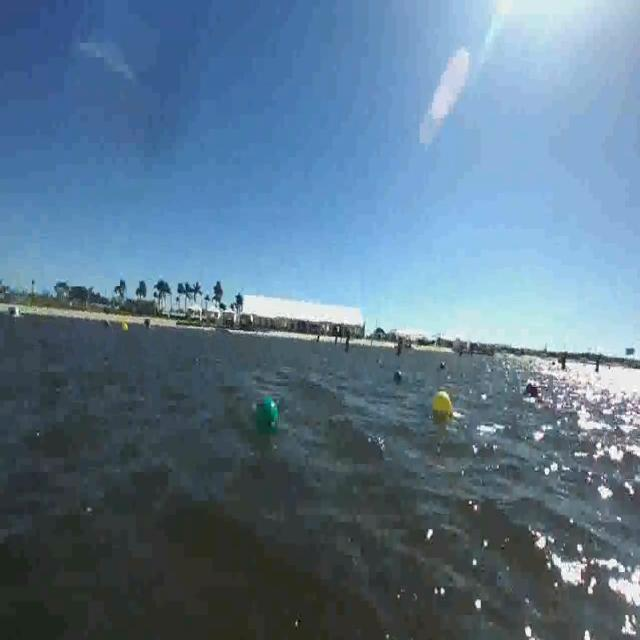green-buoy: (256, 397, 280, 436)
yellow-buoy: (432, 392, 453, 416), (122, 320, 128, 333)
